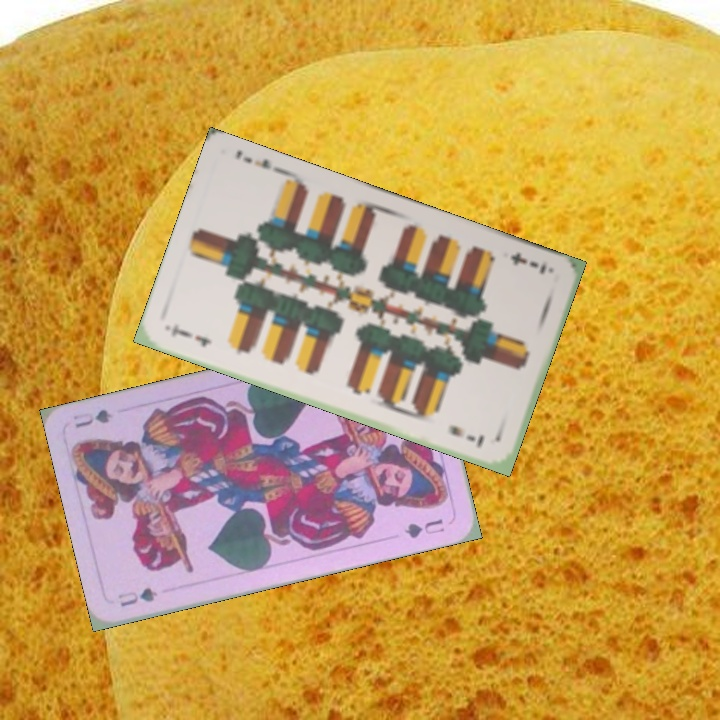E7: (167, 319, 215, 350), (506, 248, 549, 278)
GU: (114, 583, 160, 610)
